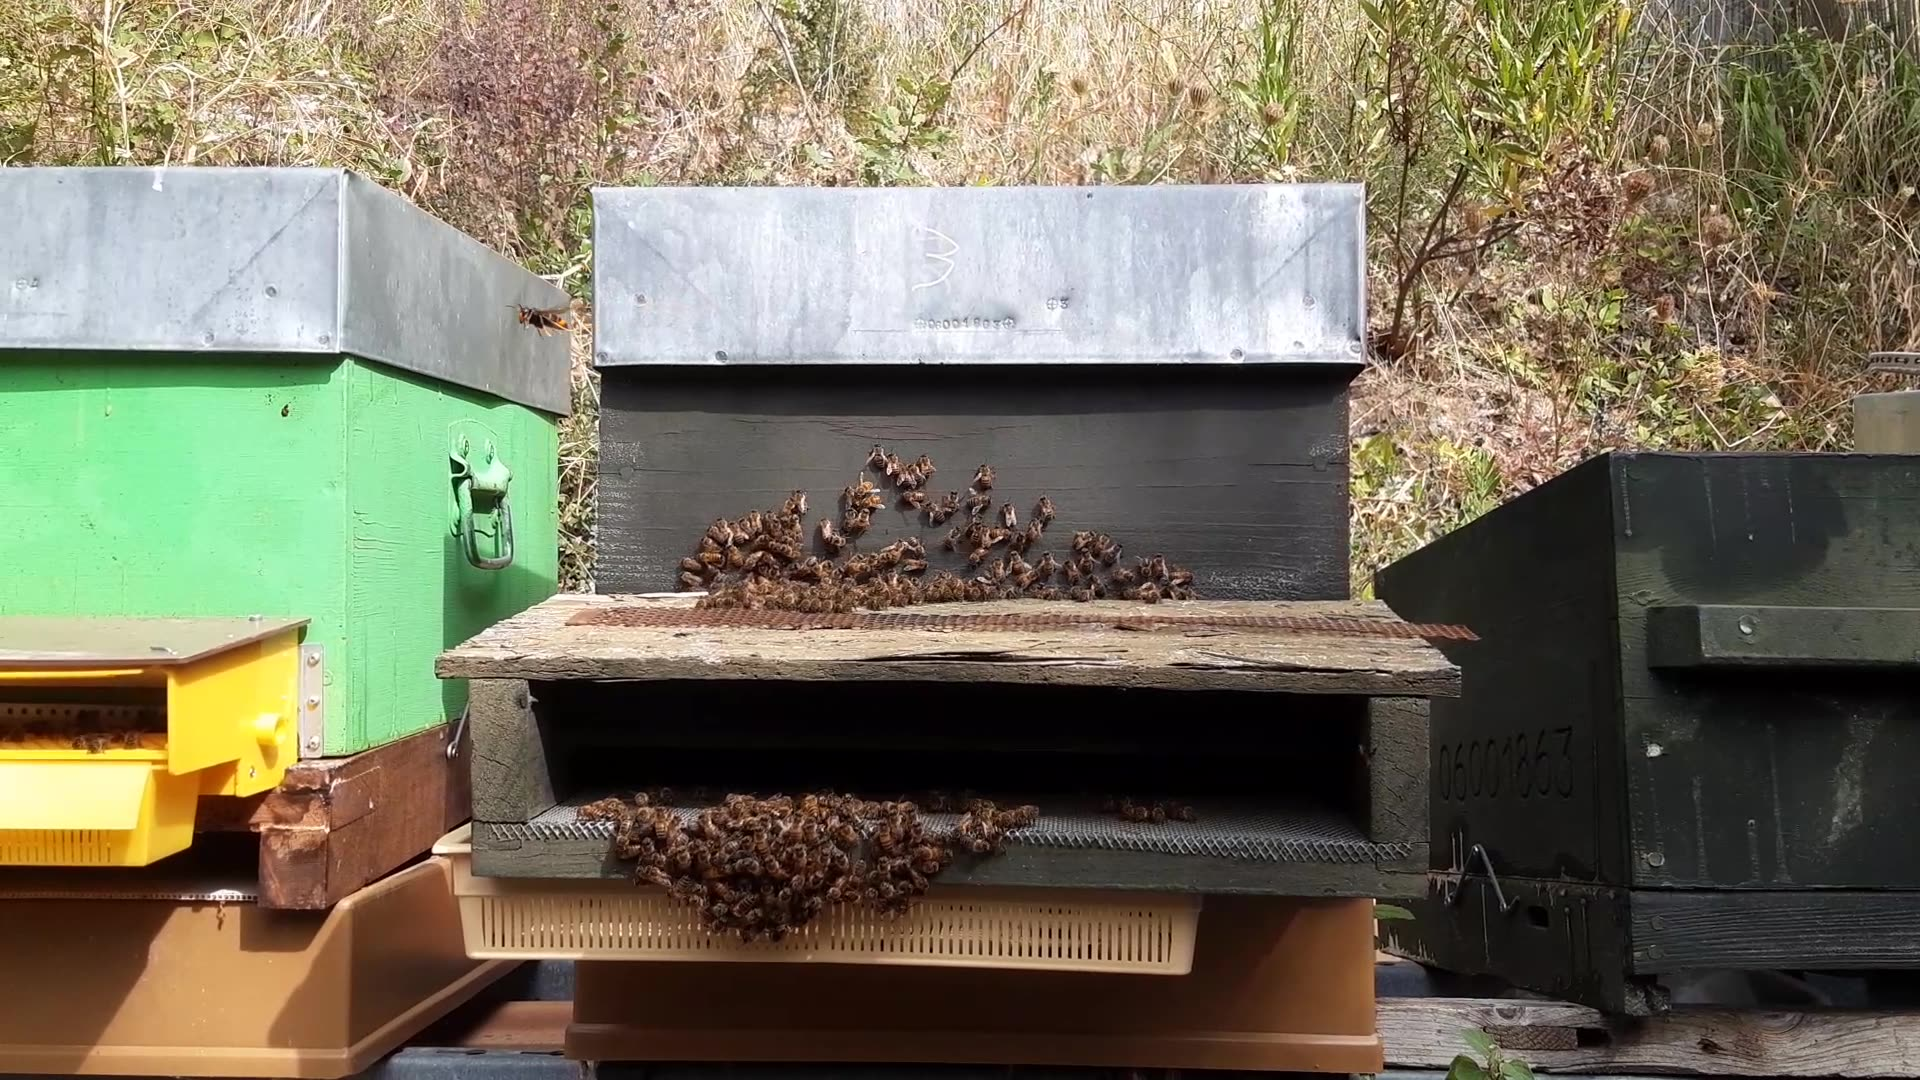bee: (578, 793, 675, 858), (632, 851, 709, 928), (935, 799, 1036, 855), (920, 554, 1007, 607), (837, 542, 914, 597), (864, 463, 934, 522), (945, 534, 1014, 592), (731, 793, 810, 843), (728, 524, 803, 575), (1364, 316, 1416, 388), (1109, 556, 1193, 600), (945, 473, 1004, 524), (1038, 527, 1097, 568), (781, 491, 843, 529)
hornet: (537, 307, 585, 342)
